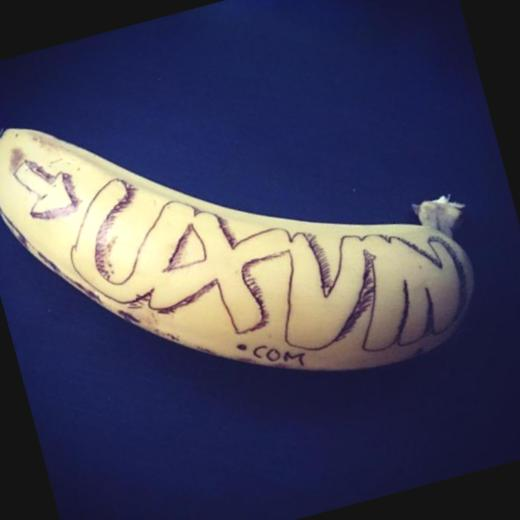Banana: (0, 2, 510, 442)
